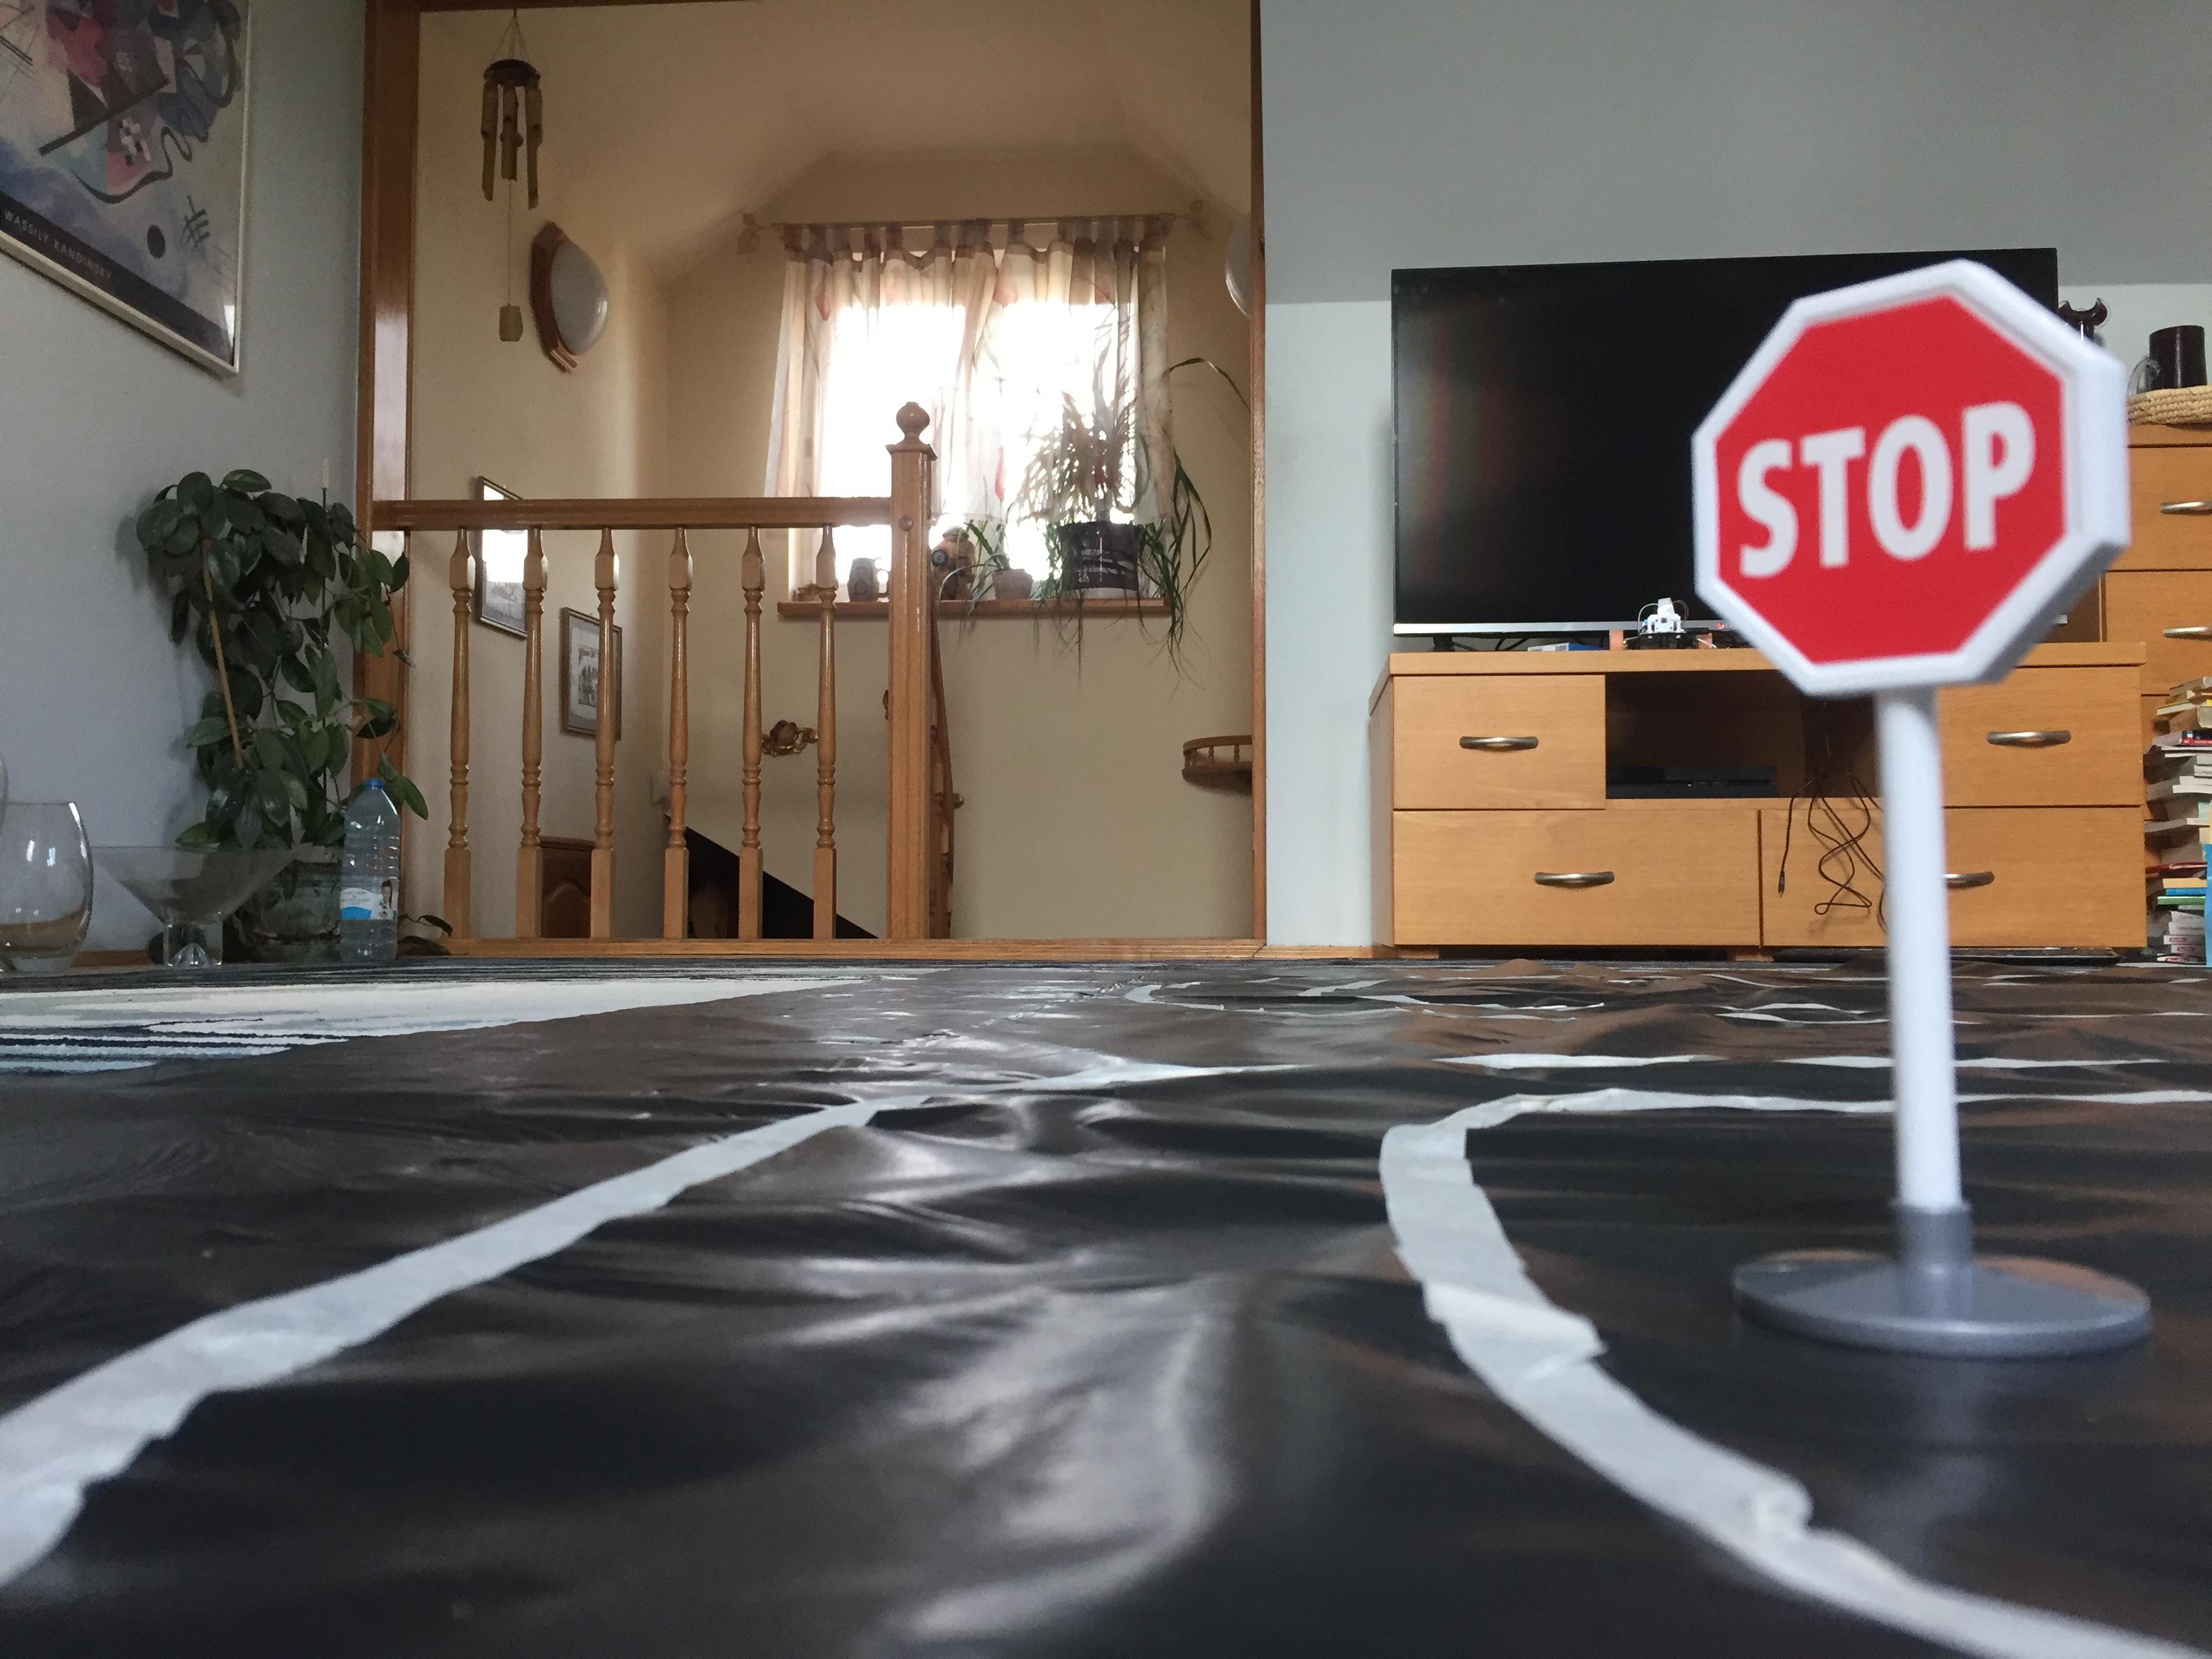stop: (1688, 256, 2128, 725)
